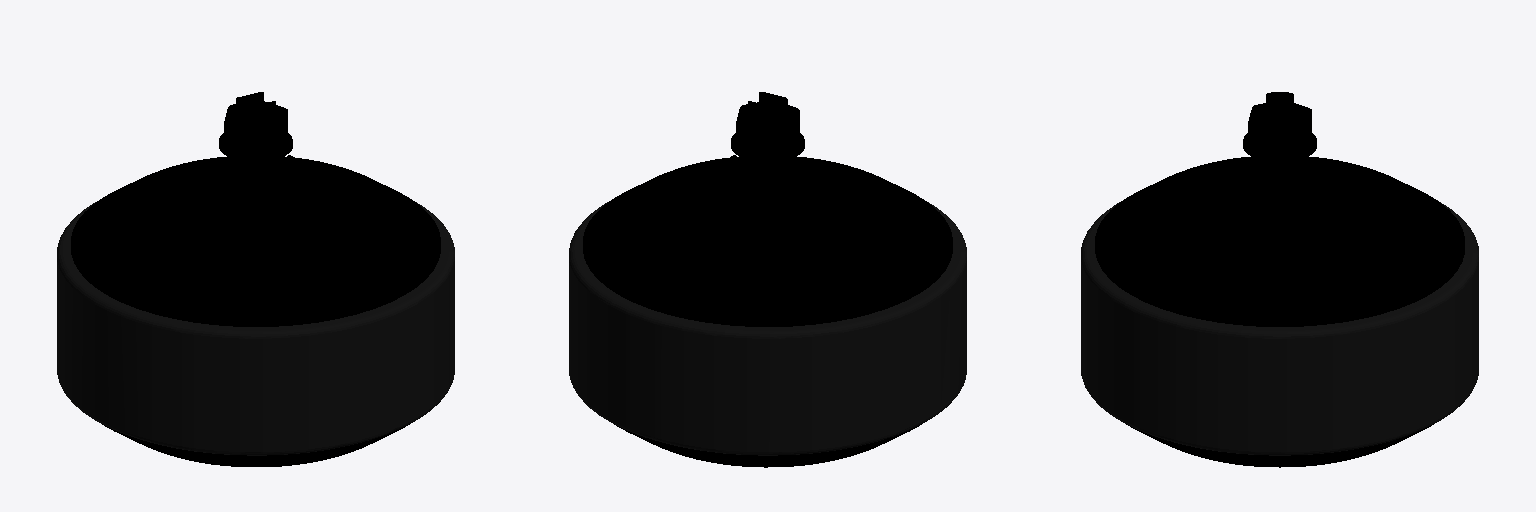
Rendered from wheel_motor.obj.
The picture shows the model from 3 angles: view 1: azimuth 30°, elevation 25°; view 2: azimuth 150°, elevation 25°; view 3: azimuth 270°, elevation 25°; orthographic projection.
Parts seen in each view (by area): view 1: wheel_motor; view 2: wheel_motor; view 3: wheel_motor.
Part boxes in pixels (x1,y1,x2,y2): wheel_motor: (57, 92, 454, 466); wheel_motor: (569, 92, 966, 467); wheel_motor: (1081, 92, 1478, 467).
Bounding box in the file's own units: 0.14 × 0.1209 × 0.1399.